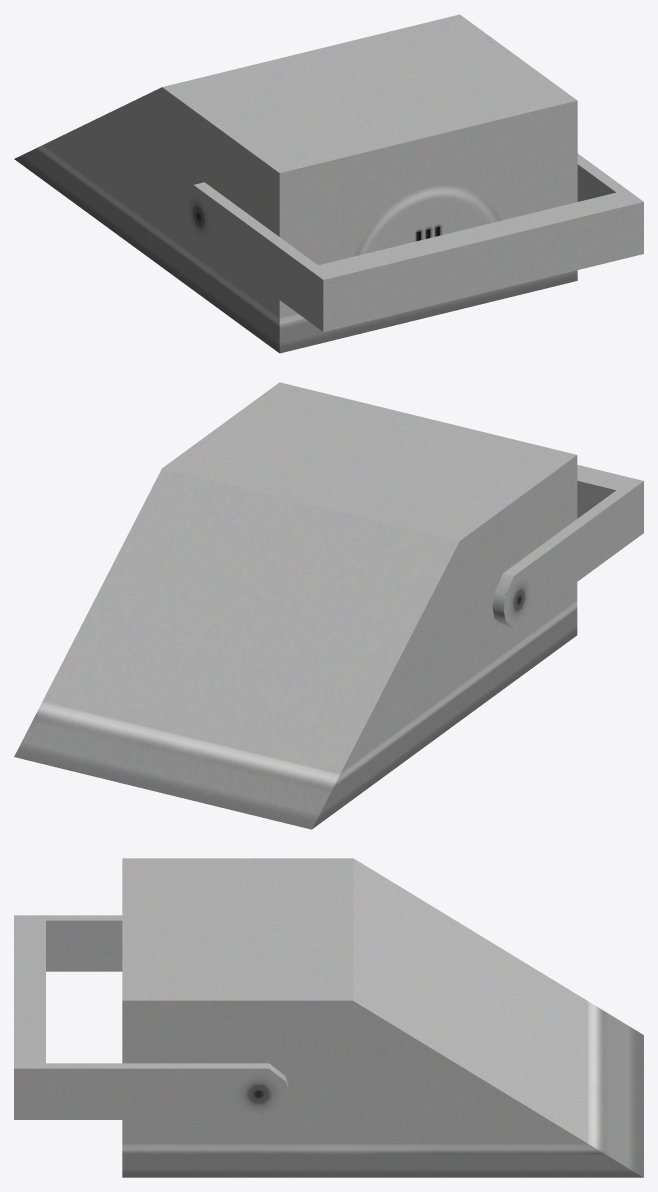
Rendered from Projector_01.FBX.
3 views of the same model, one above another, from view 1: azimuth 30°, elevation 25°; view 2: azimuth 150°, elevation 25°; view 3: azimuth 270°, elevation 25° (orthographic).
Parts seen in each view (by area): view 1: Projector_01; view 2: Projector_01; view 3: Projector_01.
Part boxes in pixels (<box>): Projector_01: <box>14,14,643,353</box>; Projector_01: <box>14,382,643,829</box>; Projector_01: <box>14,858,643,1177</box>.
Bounding box in the file's own units: 0.5147 × 0.2767 × 0.8927.
